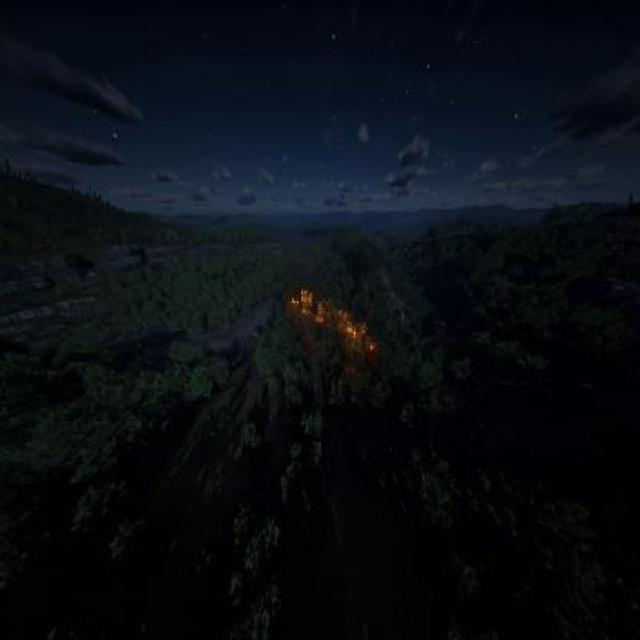Fire: (274, 268, 389, 372)
